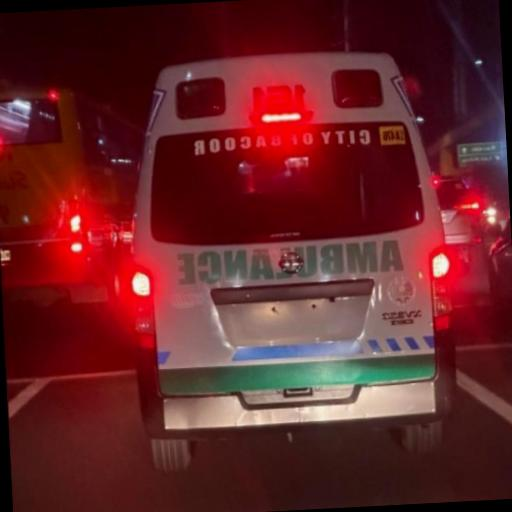Police car: (117, 46, 466, 476)
